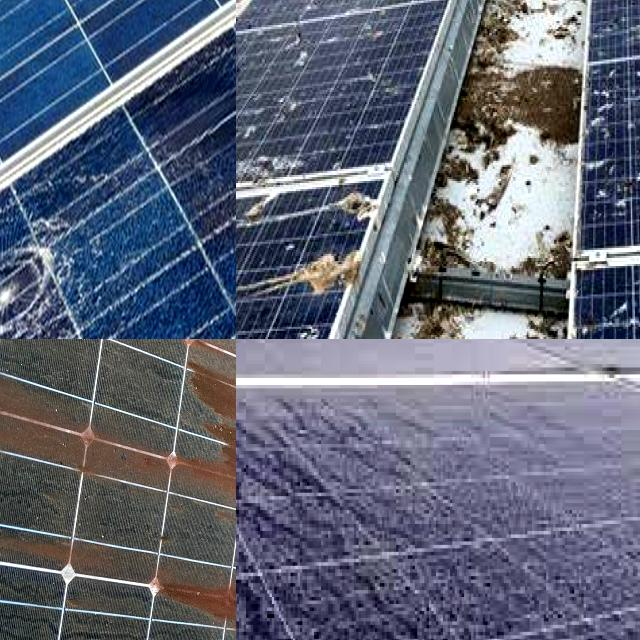bird: (236, 250, 379, 298), (286, 184, 397, 228), (240, 182, 286, 232), (384, 0, 442, 16), (286, 318, 321, 339), (626, 68, 640, 111)
dust: (439, 401, 640, 508), (246, 409, 406, 542), (448, 532, 640, 635), (0, 386, 193, 470), (249, 570, 430, 640), (236, 400, 299, 566), (88, 339, 216, 405), (236, 387, 271, 596), (194, 433, 236, 565), (236, 574, 301, 640), (0, 339, 162, 361)
hotspot: (0, 221, 84, 339)
